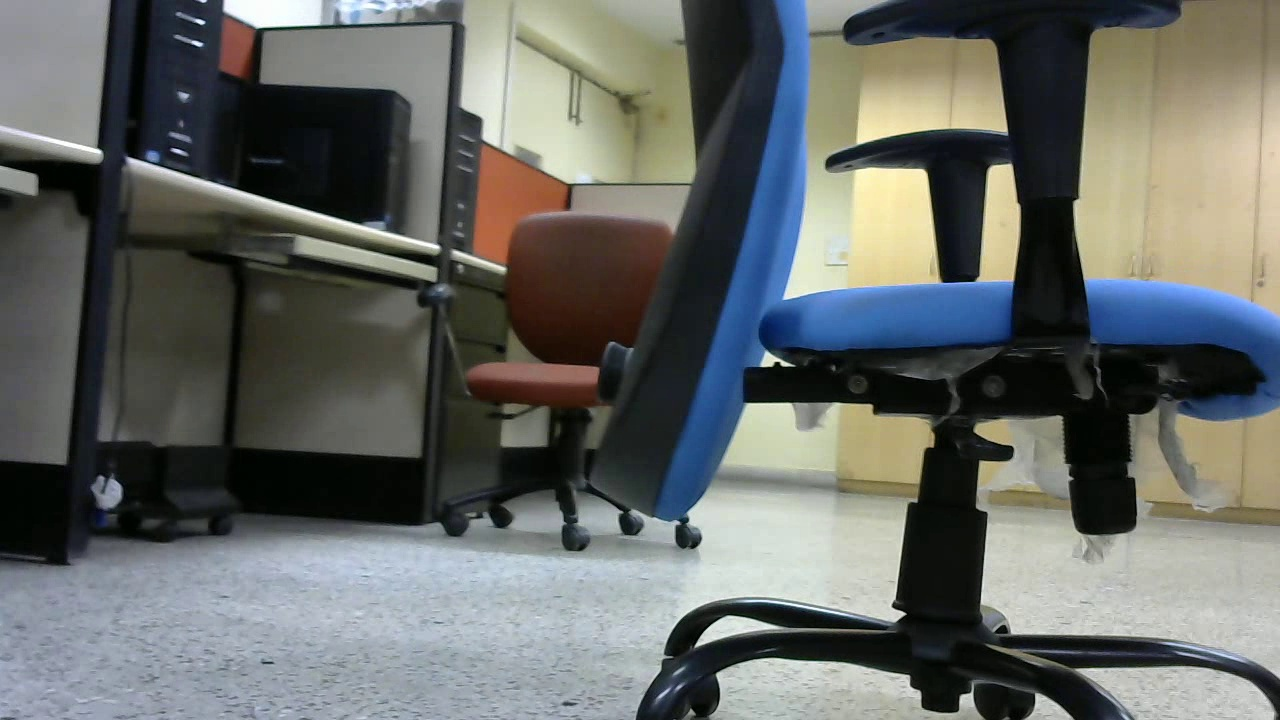chair: (606, 3, 1280, 720), (438, 212, 706, 553)
